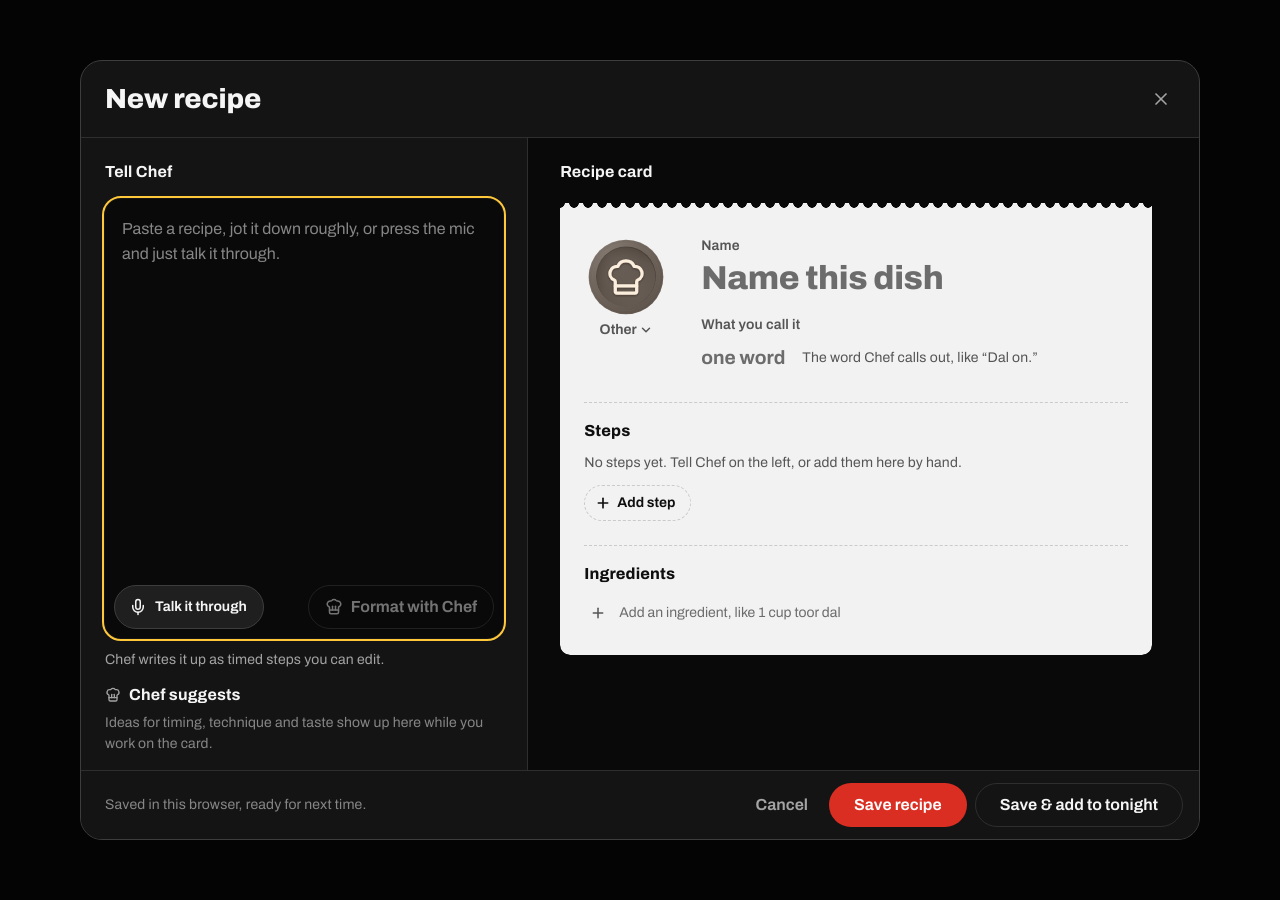
Scenario: RecipeStudio › formats typed text into the card, with a status line and suggestions
This screenshot has width=1280, height=900.
Type "My mom's dal. Wash a cup of toor dal and pressure cook it with turmeric." into the text box with test id "studio-text" at (304, 388), box left=106, top=200, right=502, bottom=577
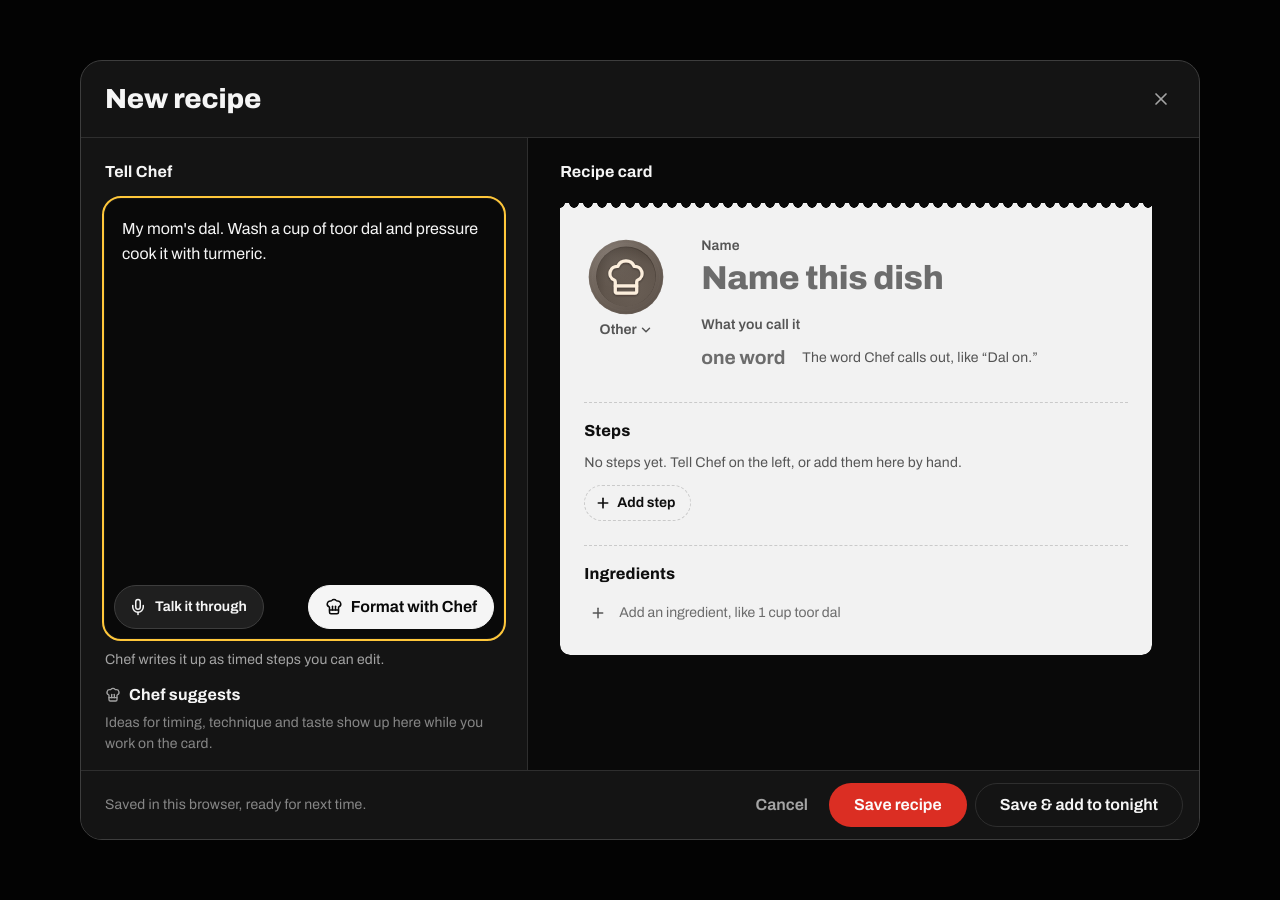
Click the button with test id "studio-format" at (401, 607), box left=308, top=585, right=494, bottom=629
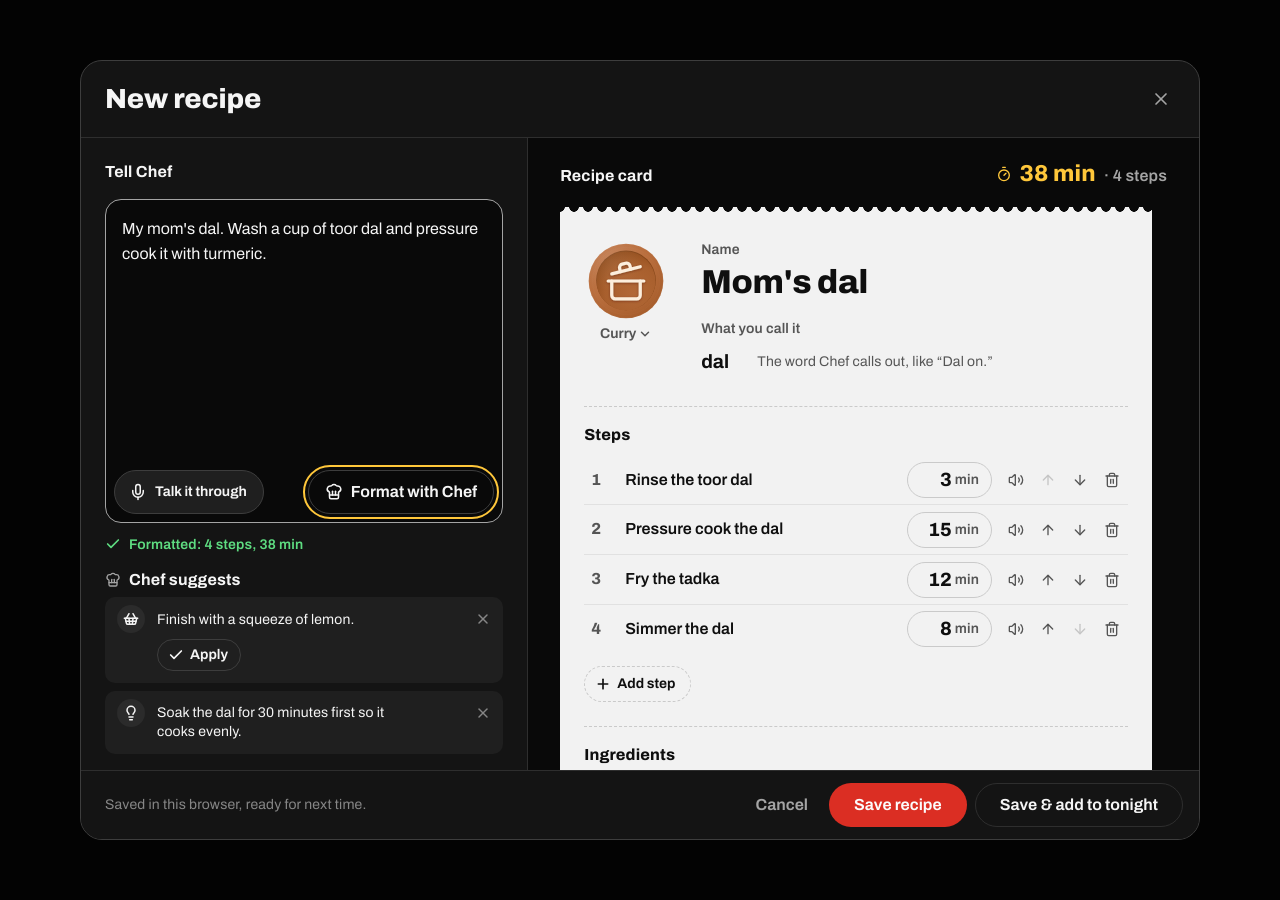
Result: the number of list items with test id "studio-step" is 4 at left=584, top=456, right=1128, bottom=504; left=584, top=504, right=1128, bottom=554; left=584, top=554, right=1128, bottom=604; left=584, top=604, right=1128, bottom=654
Result: the field with test id "studio-name" holds "Mom's dal" at left=692, top=262, right=1128, bottom=306
Result: the field with test id "studio-short" holds "dal" at left=692, top=342, right=749, bottom=382
